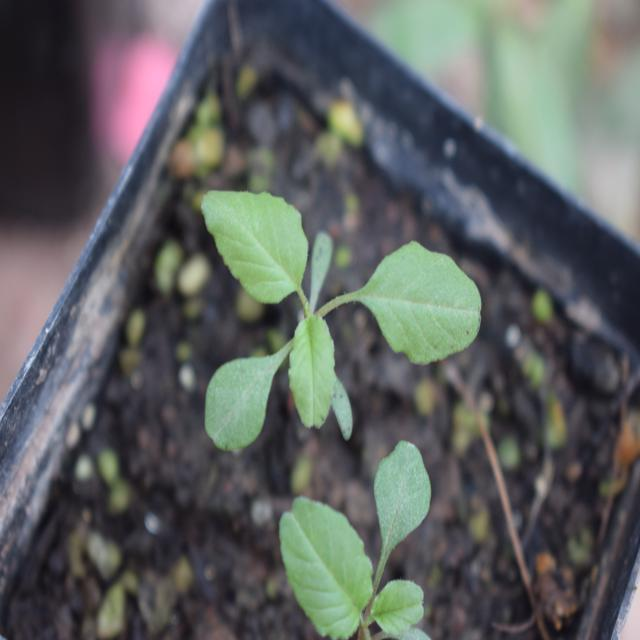pigweed: (183, 172, 476, 465)
